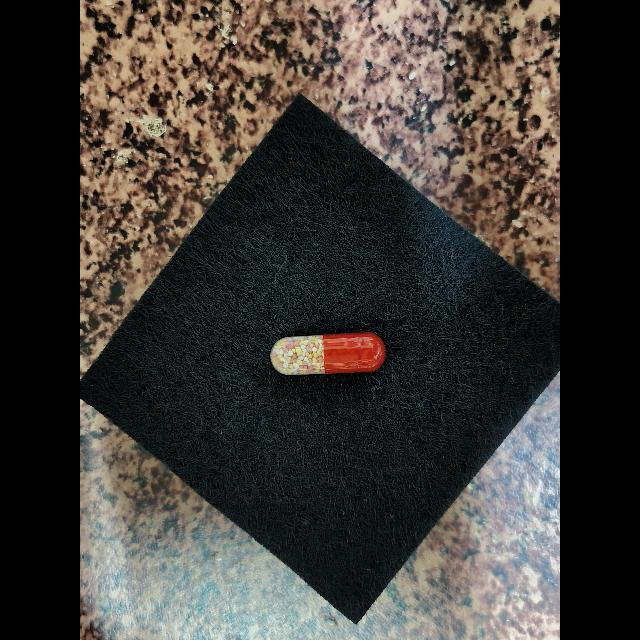Intact Capsule: (270, 332, 386, 375)
